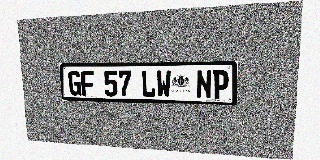5: (104, 70, 118, 97)
7: (117, 70, 132, 97)
F: (81, 70, 95, 96)
G: (68, 71, 82, 96)
L: (141, 70, 156, 97)
N: (196, 70, 212, 99)
P: (212, 69, 229, 99)
W: (156, 70, 171, 98)
